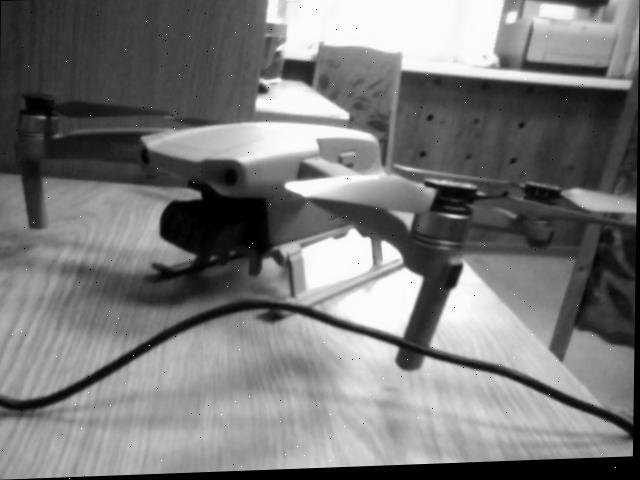drone: (0, 64, 639, 381)
